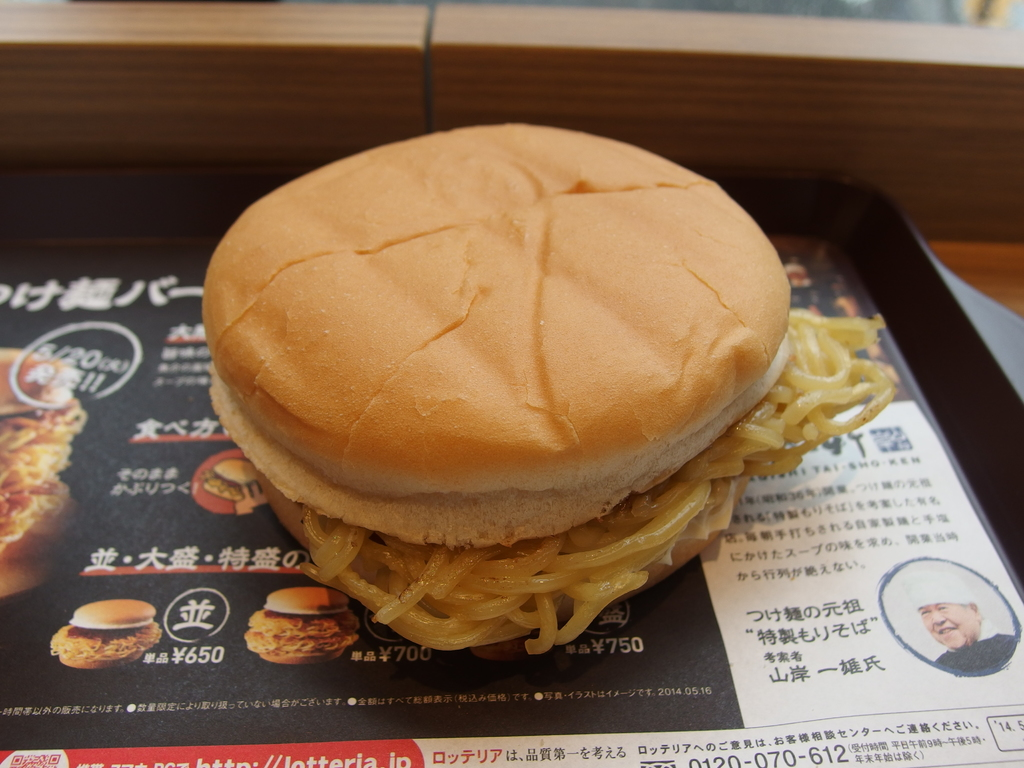Hamburger: (206, 124, 892, 648)
